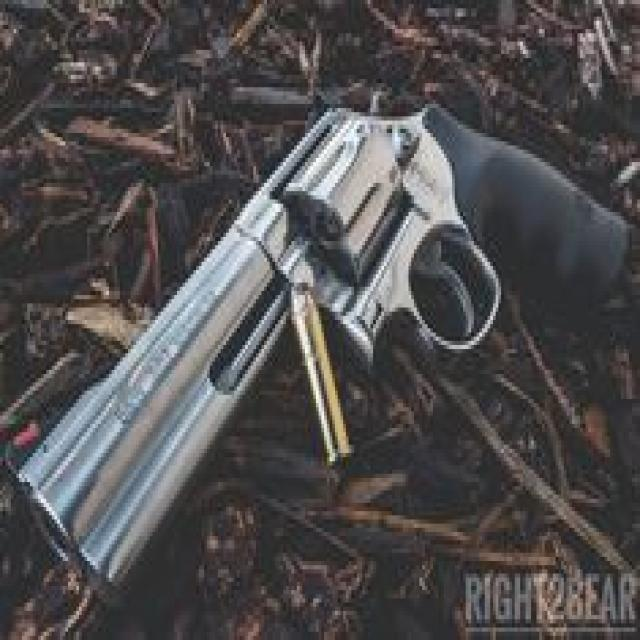revolver: (15, 59, 637, 606)
